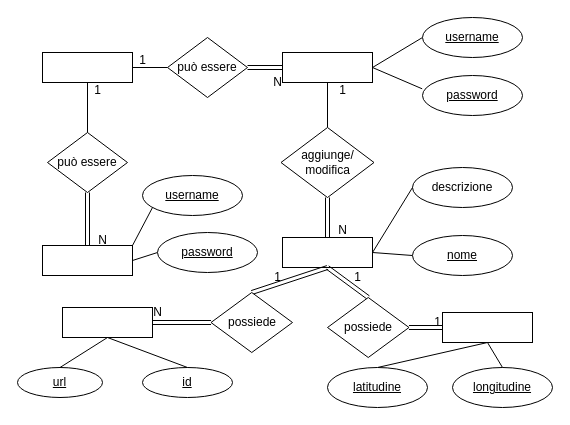
This 570x425 diagram has some shape labels left out. Here are the shapes that lost their labels. From the top down, the centre of each, then its label:
At (87,67): "account".
At (327,67): "admin".
At (87,260): "utente".
At (327,252): "POI".
At (107,322): "immagine".
At (487,327): "coordinate".
